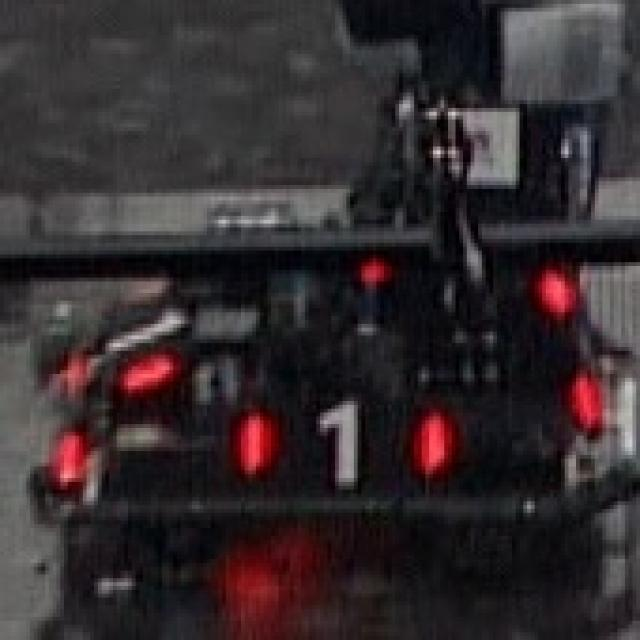R1: (211, 392, 459, 499), (87, 293, 177, 397)
